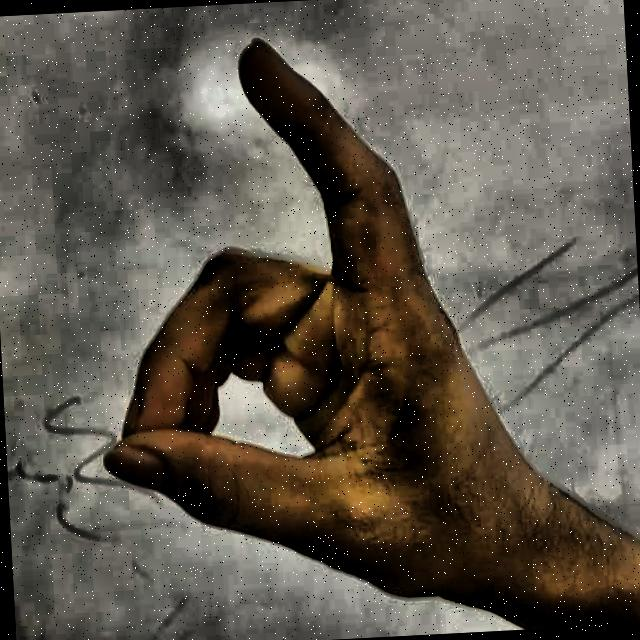Dha: (63, 11, 581, 640)
